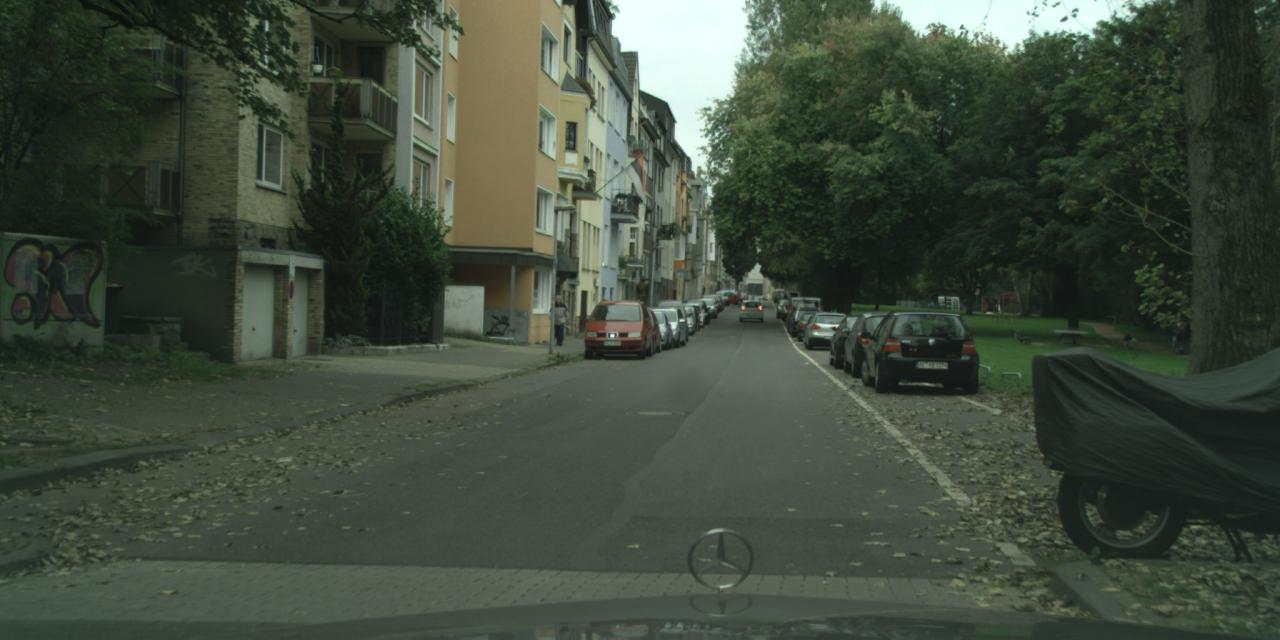ped: (549, 295, 569, 344), (1172, 322, 1187, 355), (1122, 330, 1130, 349)
